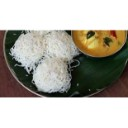idiyappam: (34, 56, 73, 94), (12, 30, 45, 65), (44, 27, 74, 60)
